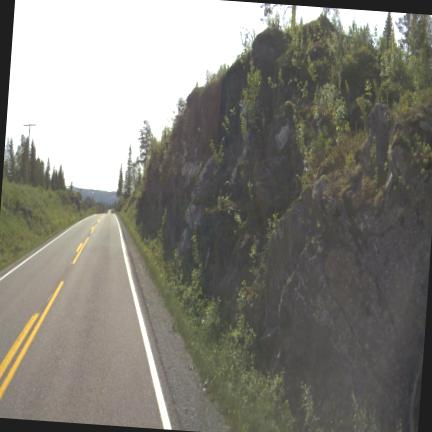Road: (0, 214, 170, 428)
